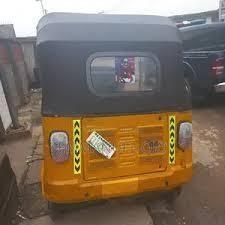keke: (34, 9, 194, 211)
